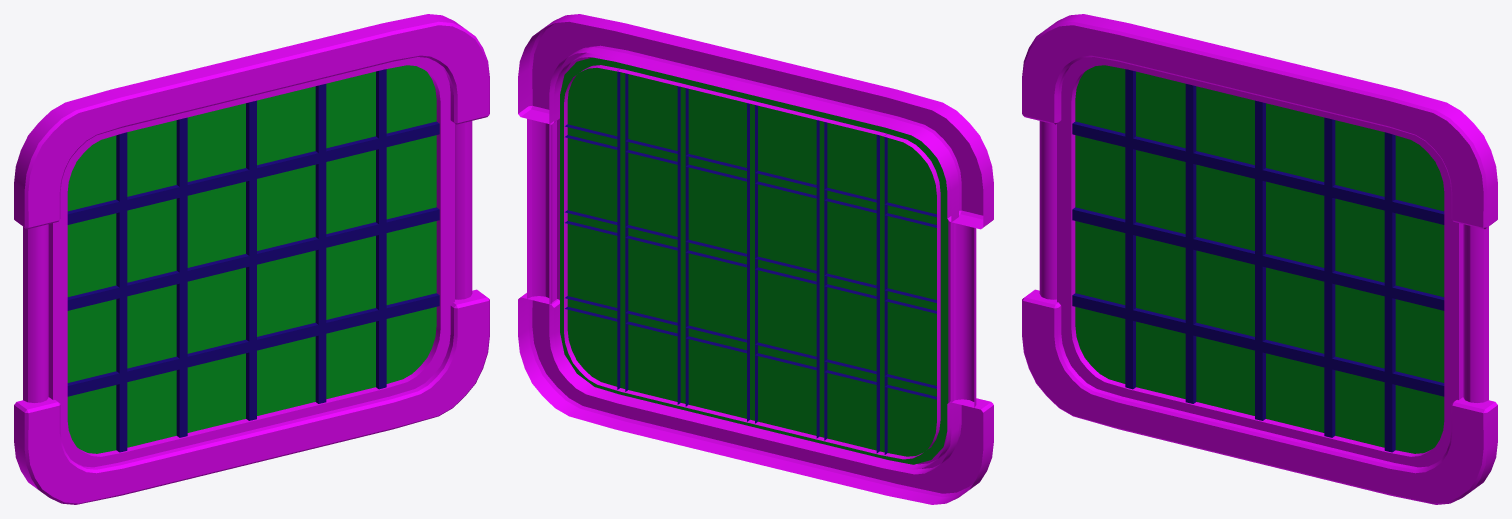
Rendered from Fenetre_Grande_4x4x0_03.FBX.
3 renders of one model, left to right at view 1: azimuth 30°, elevation 25°; view 2: azimuth 150°, elevation 25°; view 3: azimuth 330°, elevation 25°, orthographic.
Parts seen in each view (by area): view 1: Fenetre_Grande_4x4x0_03; view 2: Fenetre_Grande_4x4x0_03; view 3: Fenetre_Grande_4x4x0_03.
Part boxes in pixels (x1,y1,x2,y2): Fenetre_Grande_4x4x0_03: (14,14,489,504); Fenetre_Grande_4x4x0_03: (518,14,993,504); Fenetre_Grande_4x4x0_03: (1022,14,1497,504).
Size of the model in its own units: 286 by 234 by 13.12.
